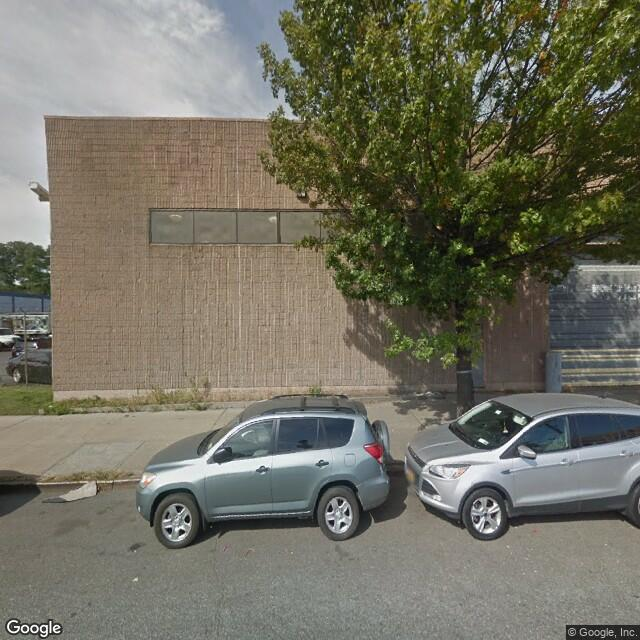litter: (31, 481, 103, 506), (126, 575, 145, 584)
